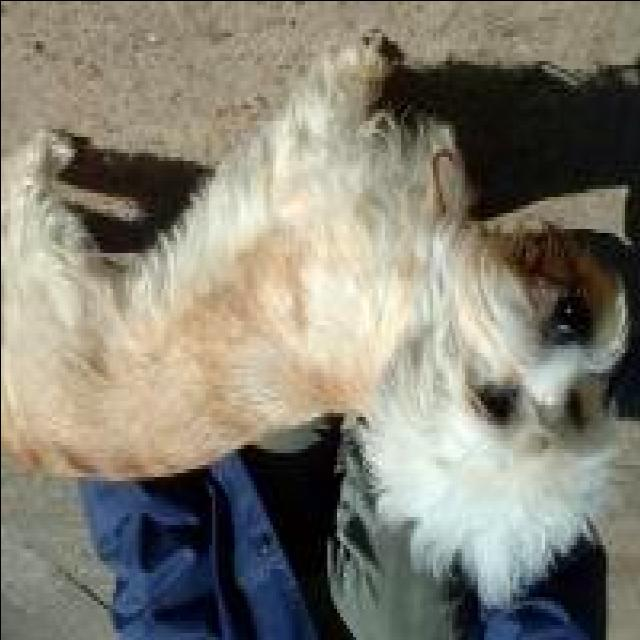dandie_dinmont: (7, 36, 630, 600)
